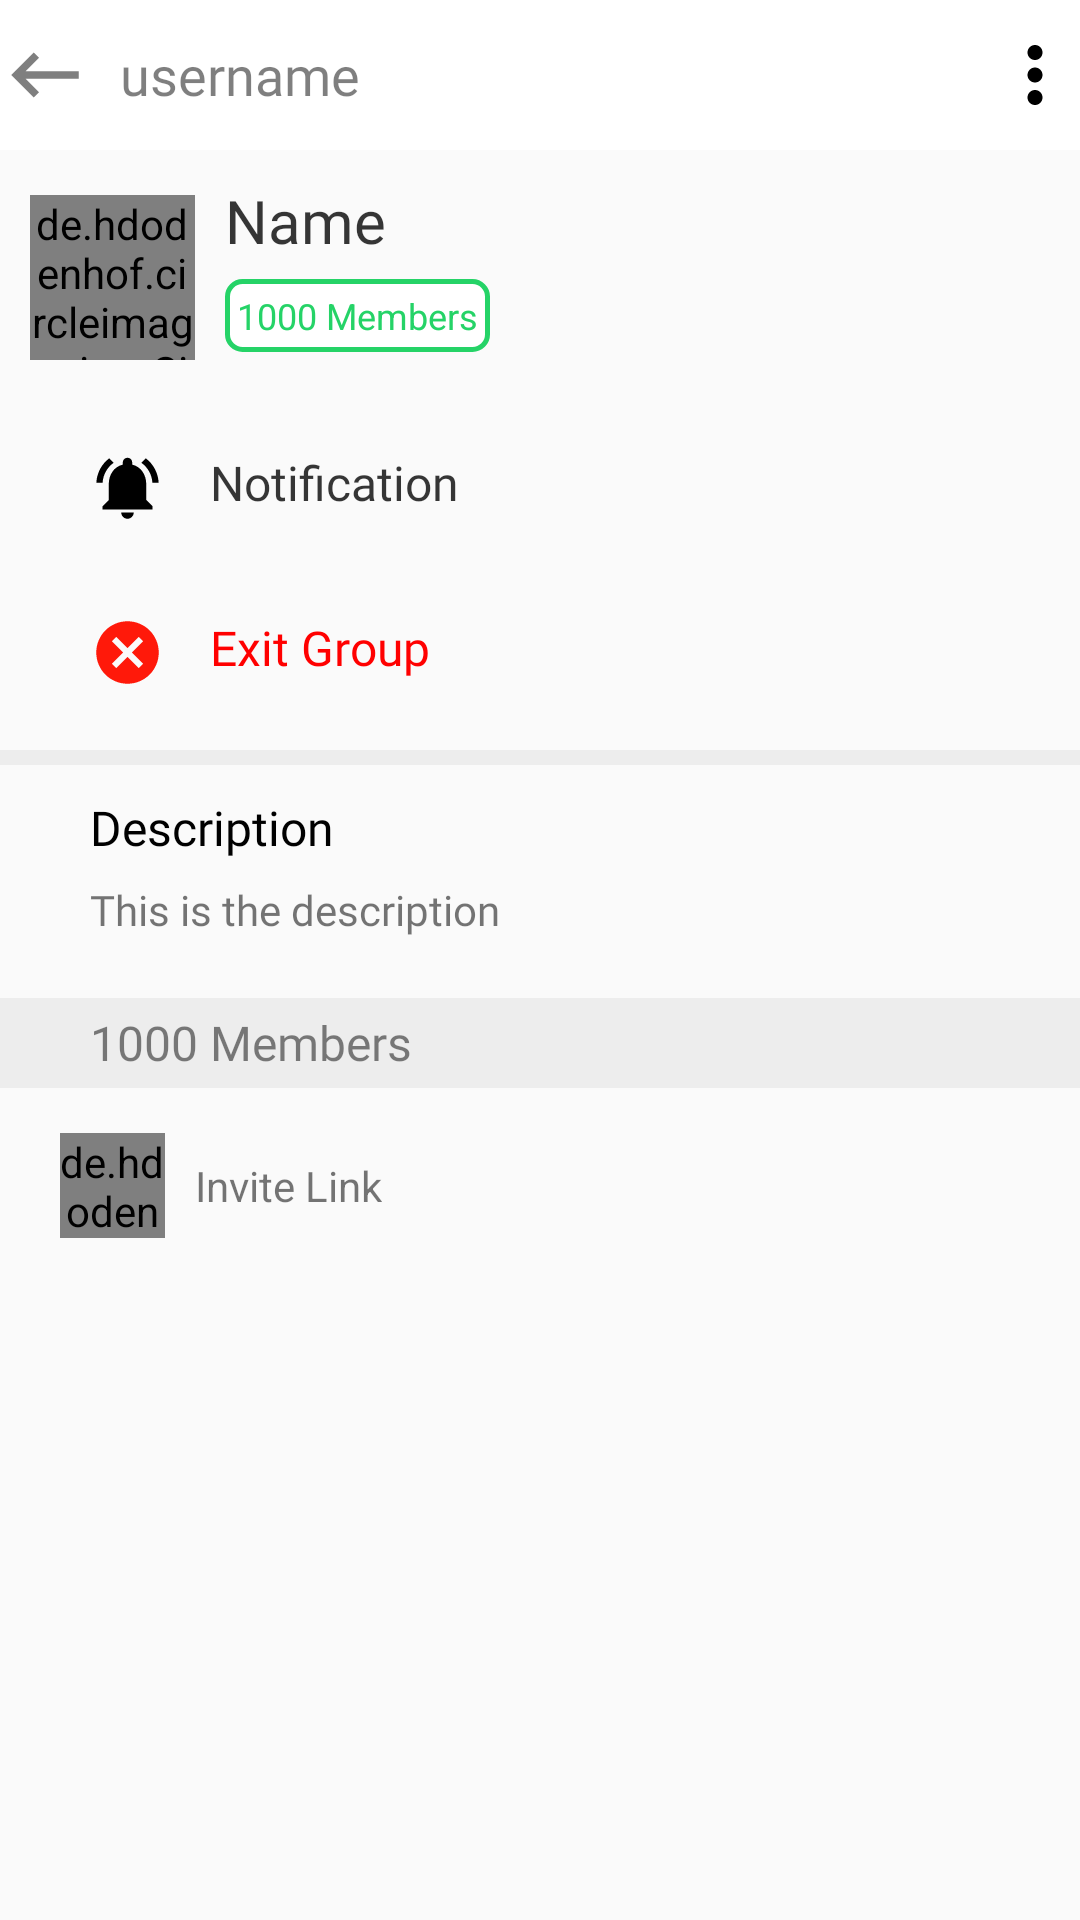

Where icons sit on this 1080×1920 app screen, as (x1, y1, x2, y2):
cancel: (96, 621, 159, 684)
keyboard backspace: (11, 52, 79, 98)
more: (1027, 45, 1043, 105)
